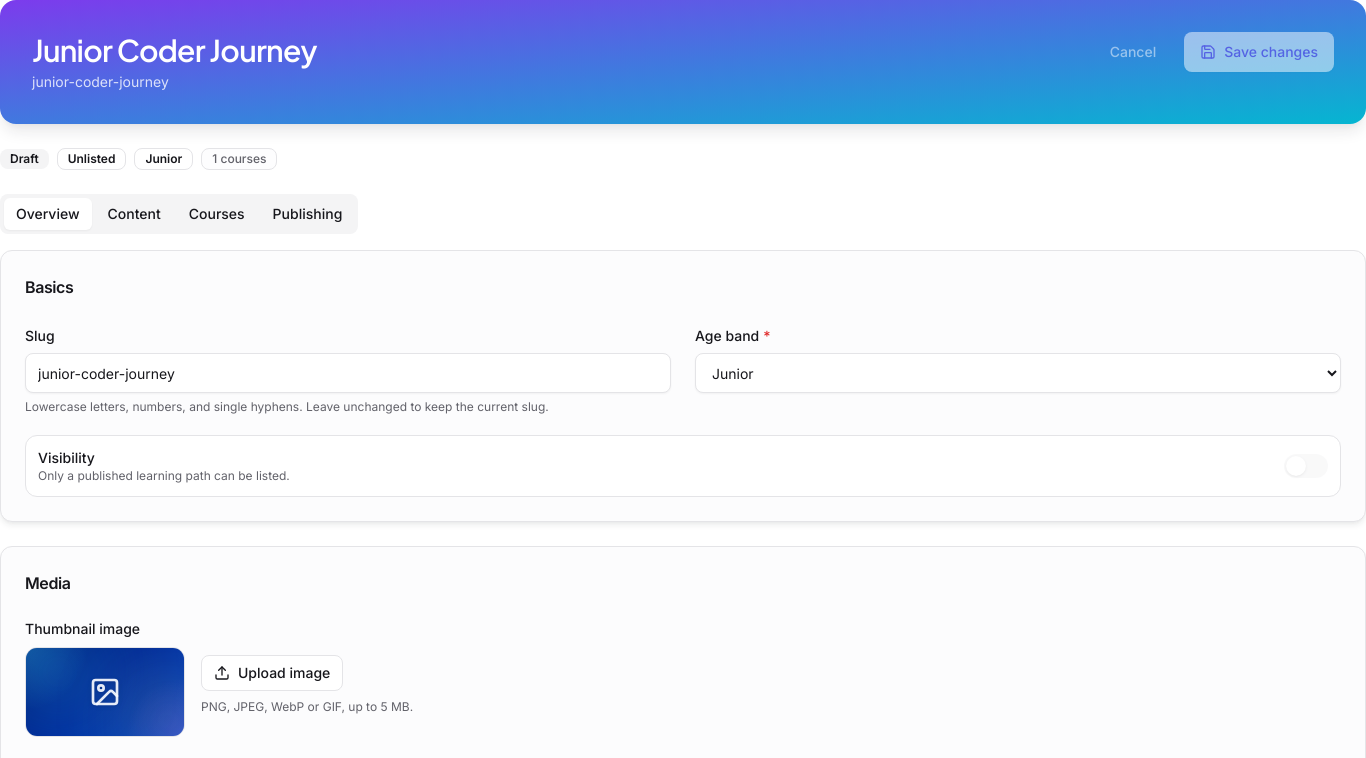
Test: LearningPathEditor › maps a 409 slug clash to the slug field and shows a summary
Replace the text in the field labelled "Slug" with "taken-slug" at (348, 373), box top-left (25, 353), bottom-right (671, 393)
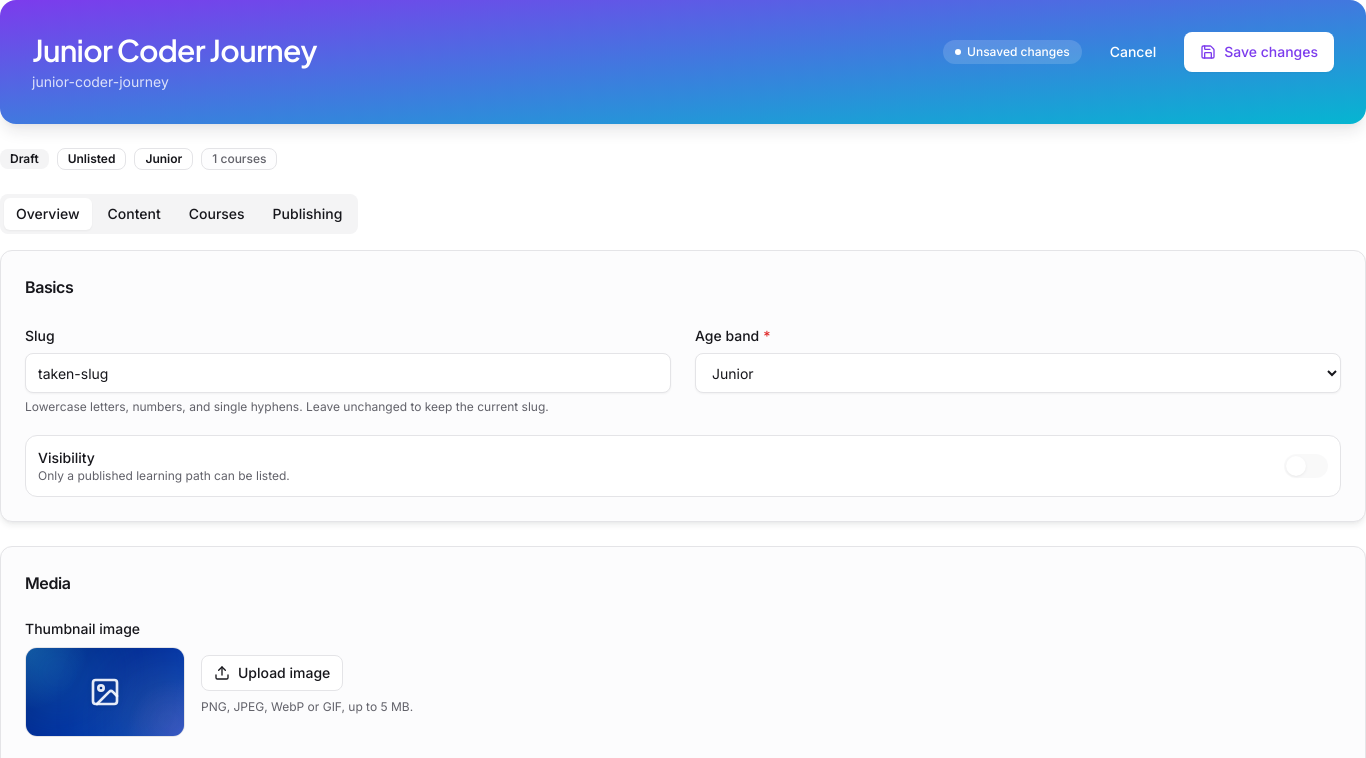
Click the button "Save changes" at (1259, 52), box top-left (1184, 32), bottom-right (1334, 72)
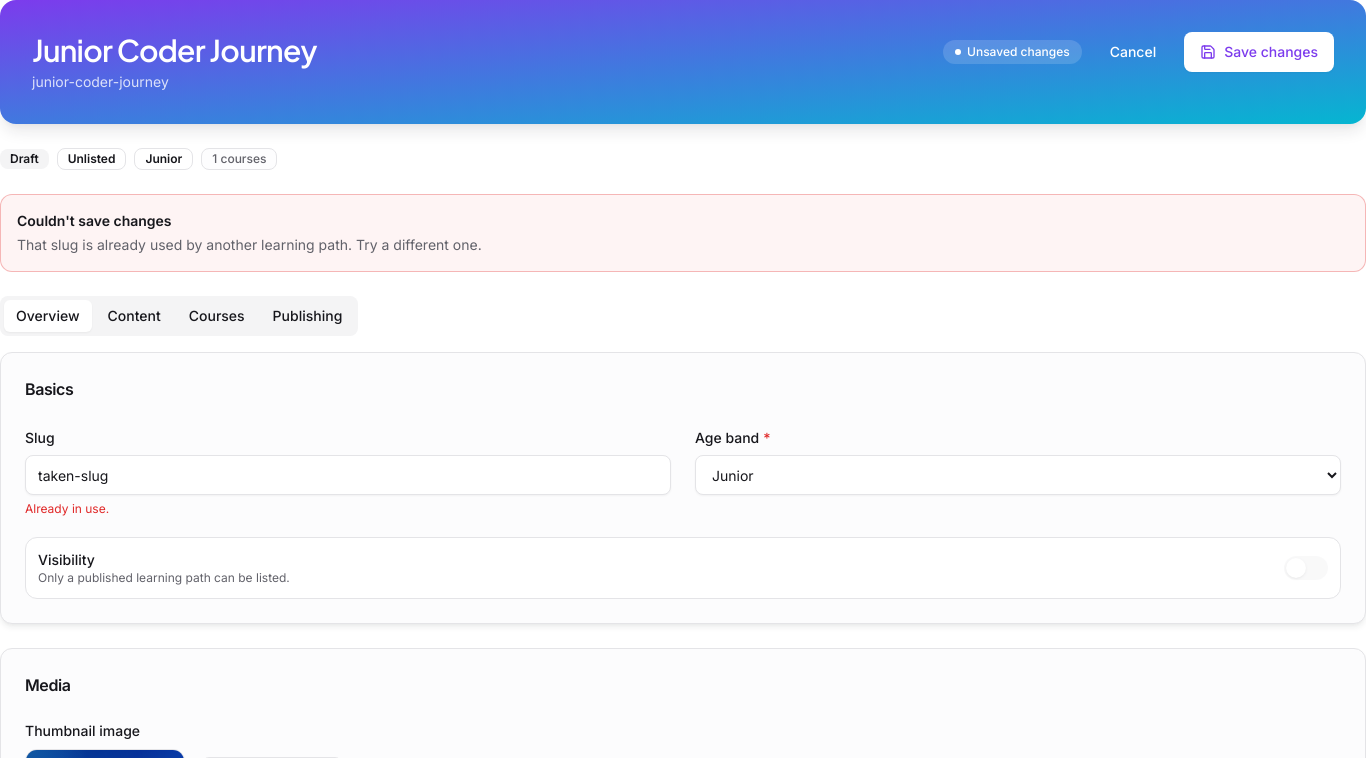
Expected: the text "already used by another learning path" is shown, top-left (17, 236), bottom-right (482, 253)
